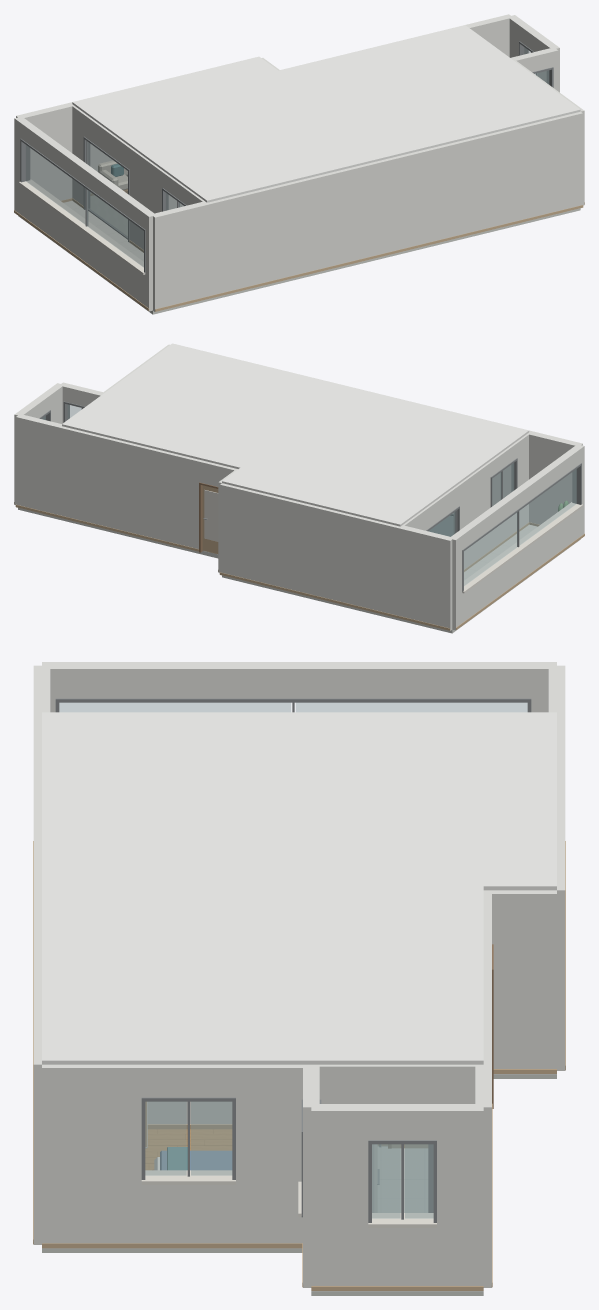
File: two-07.glb
The picture shows the model from 3 angles, top to bottom: view 1: azimuth 30°, elevation 25°; view 2: azimuth 150°, elevation 25°; view 3: azimuth 270°, elevation 25°; orthographic projection. The views are drawn at different scales.
Visible parts, largest first — view 1: architecture_wall, ceiling_ceiling, frames_glass, trim_oak, frames_metal, frames_ivory, door_glass, slab_edge, floor_tile, floor_livingfloor, furniture_fabric; view 2: architecture_wall, ceiling_ceiling, frames_glass, trim_oak, frames_metal, frames_ivory, slab_edge, door_ivory, floor_tile, door_oak; view 3: ceiling_ceiling, architecture_wall, frames_glass, frames_metal, trim_oak, door_glass, floor_tile, slab_edge, frames_ivory, floor_woodfloor, furniture_blue.
Boxes of the visible parts, box(x1,y1,x2,y2) form: architecture_wall: box(14, 14, 584, 311); ceiling_ceiling: box(72, 25, 580, 202); frames_glass: box(26, 47, 548, 267); trim_oak: box(14, 193, 584, 311); frames_metal: box(20, 41, 553, 274); frames_ivory: box(19, 179, 145, 274); door_glass: box(87, 142, 127, 236); slab_edge: box(18, 208, 580, 314); floor_tile: box(64, 201, 143, 261); floor_livingfloor: box(90, 195, 127, 235); furniture_fabric: box(98, 160, 127, 189); architecture_wall: box(14, 344, 584, 630); ceiling_ceiling: box(62, 343, 529, 526); frames_glass: box(42, 405, 576, 585); trim_oak: box(14, 502, 584, 630); frames_metal: box(39, 401, 581, 591); frames_ivory: box(462, 502, 583, 593); slab_edge: box(18, 508, 580, 633); door_ivory: box(204, 490, 218, 541); floor_tile: box(464, 524, 536, 580); door_oak: box(202, 485, 218, 553); ceiling_ceiling: box(42, 712, 556, 1064); architecture_wall: box(33, 662, 565, 1291); frames_glass: box(59, 703, 527, 1218); frames_metal: box(55, 698, 531, 1222); trim_oak: box(33, 841, 565, 1290); door_glass: box(372, 1144, 427, 1212); floor_tile: box(378, 1146, 427, 1212); slab_edge: box(42, 1074, 556, 1295); frames_ivory: box(141, 1170, 436, 1227); floor_woodfloor: box(145, 1129, 232, 1170); furniture_blue: box(160, 1150, 232, 1170).
Size of the model in its own units: 14.79 by 2.93 by 7.36.
Materials: 20 (4 with a texture image).
